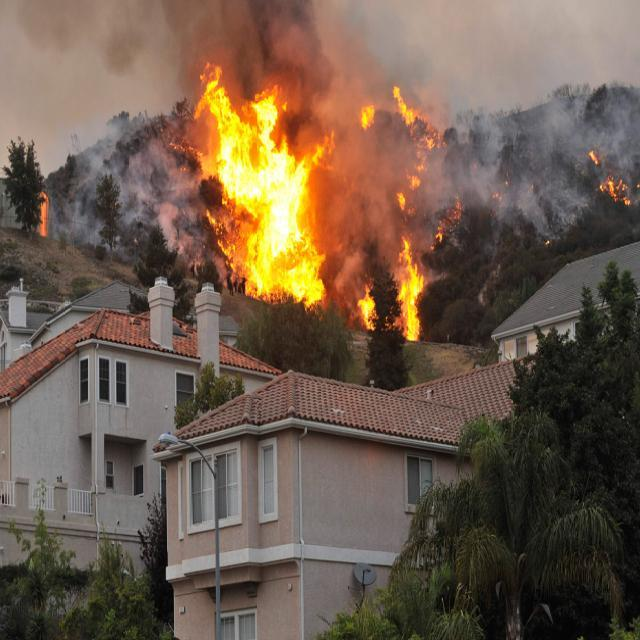Fire: (179, 59, 333, 316), (389, 213, 432, 351), (392, 122, 440, 218), (586, 146, 633, 208), (391, 79, 419, 133), (358, 275, 383, 333), (358, 93, 378, 129)
Smoke: (9, 0, 344, 135), (54, 107, 238, 286), (313, 0, 460, 214), (422, 100, 602, 246), (328, 117, 404, 294), (546, 72, 639, 172)
